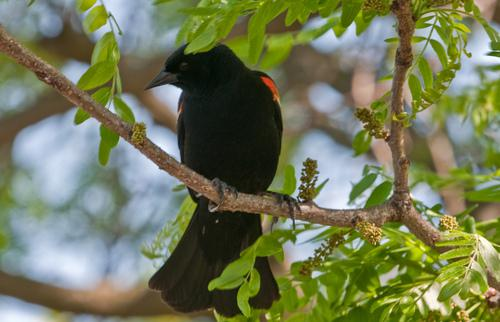010.Red_winged_Blackbird: (144, 37, 284, 317)
